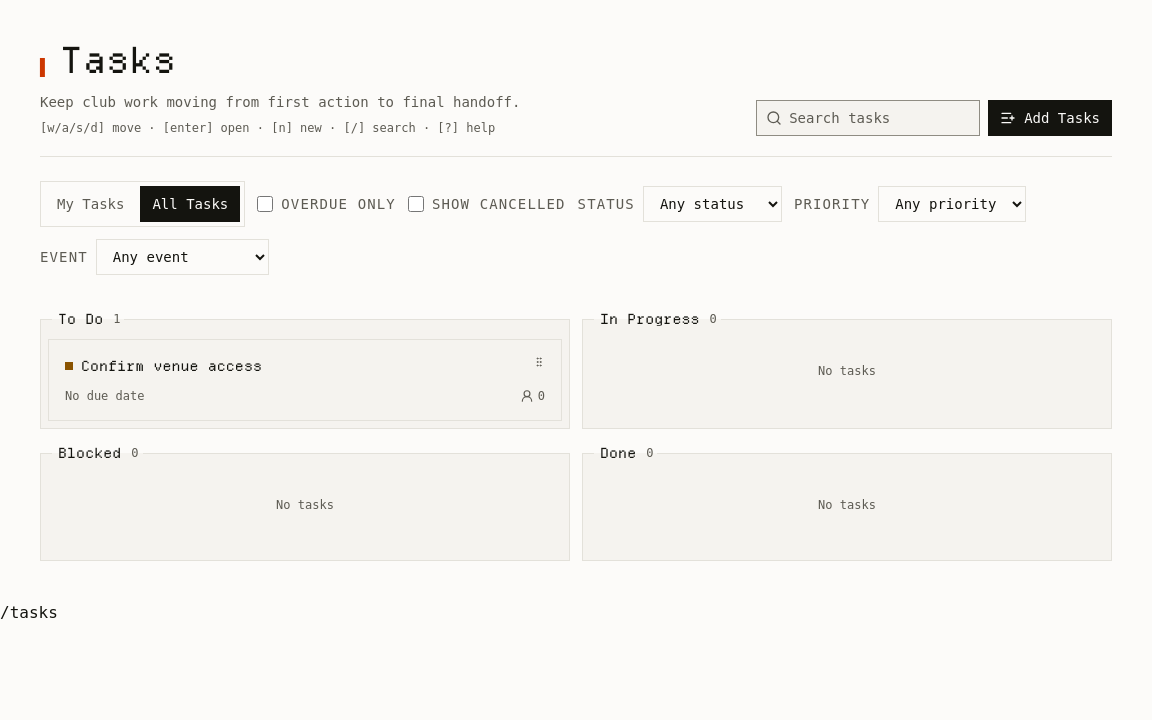
Test: TasksPage › keeps the modal open with its entries when the create fails
Expected: the heading "Confirm venue access" is shown, [81,357,262,375]
Step 1. Click the button "Add Tasks" → (1050, 118), box [988,100,1112,136]
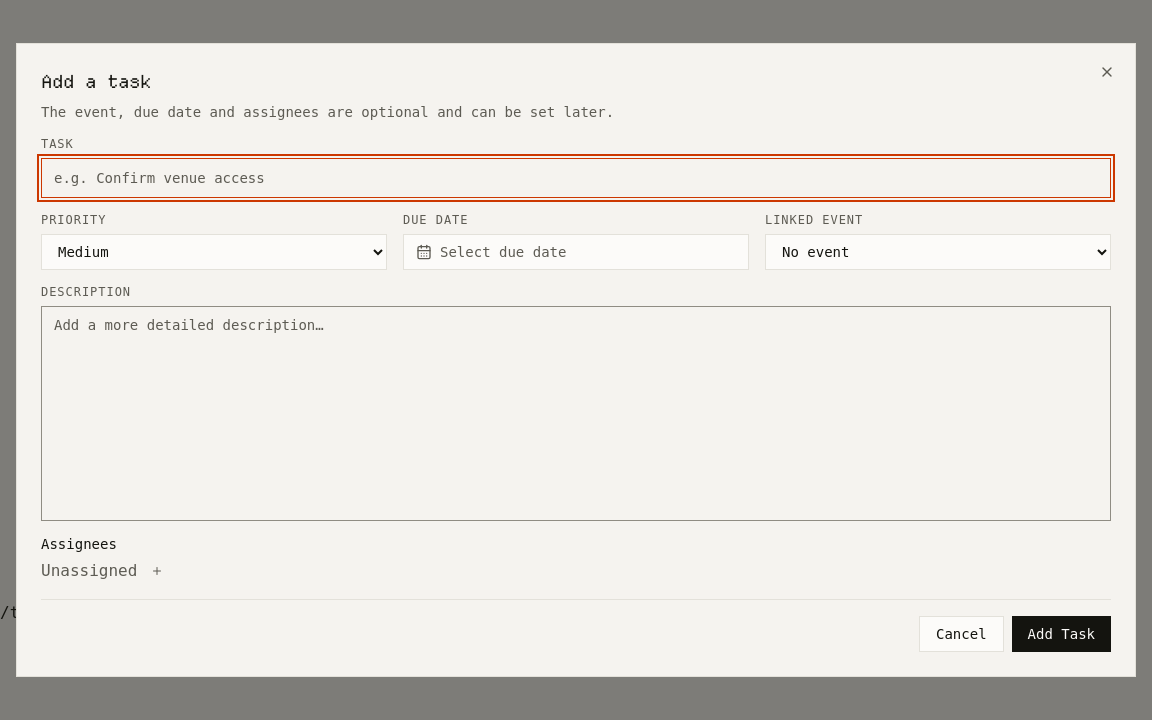
Step 2. Type "Book AV" into the field labelled "Task" → (576, 178), box [41,158,1111,198]
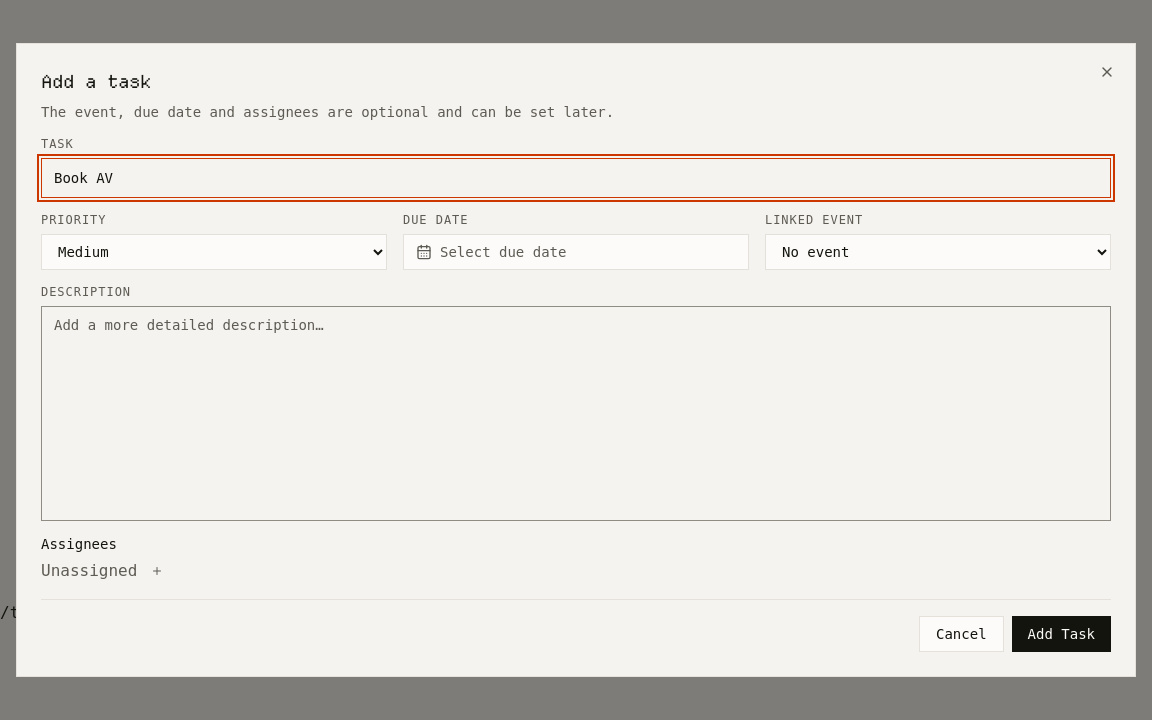
Step 3. Click the button "Add Task" → (1061, 634), box [1012,616,1111,652]
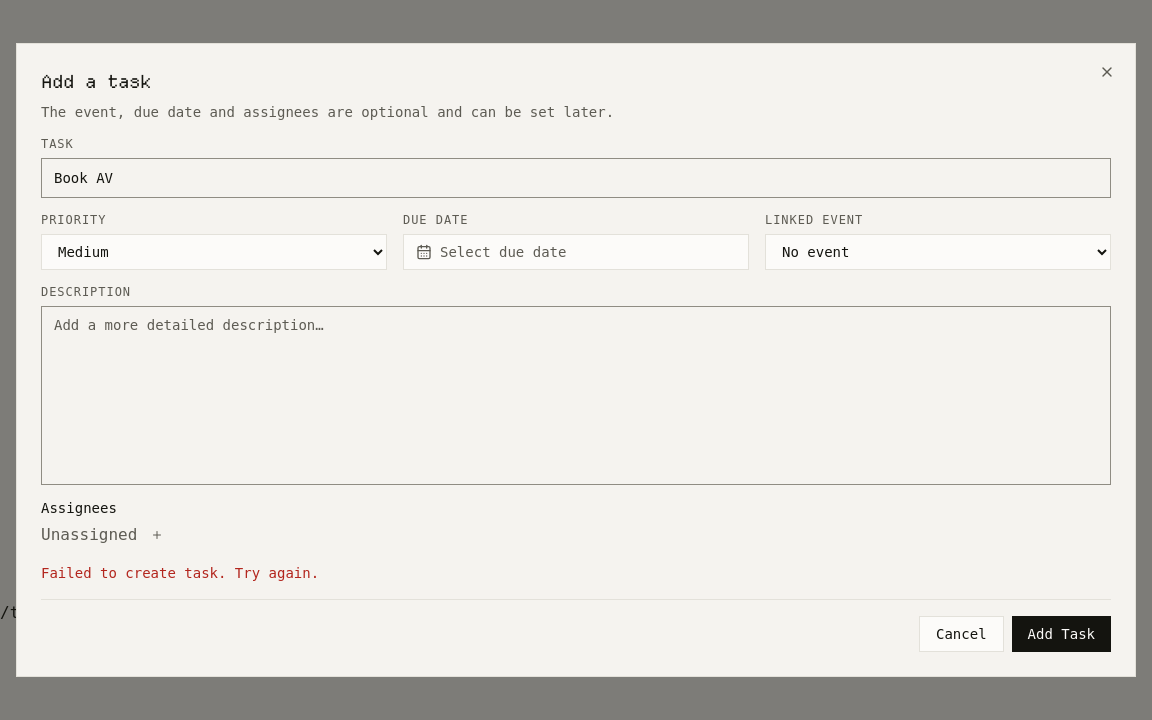
Expected: the message reads "Failed to create task. Try again.", [41,565,319,581]
